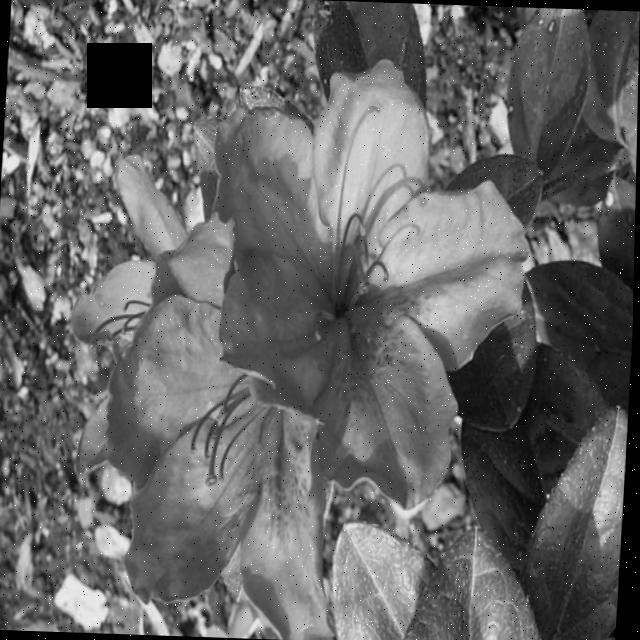azalea: (201, 76, 520, 482)
